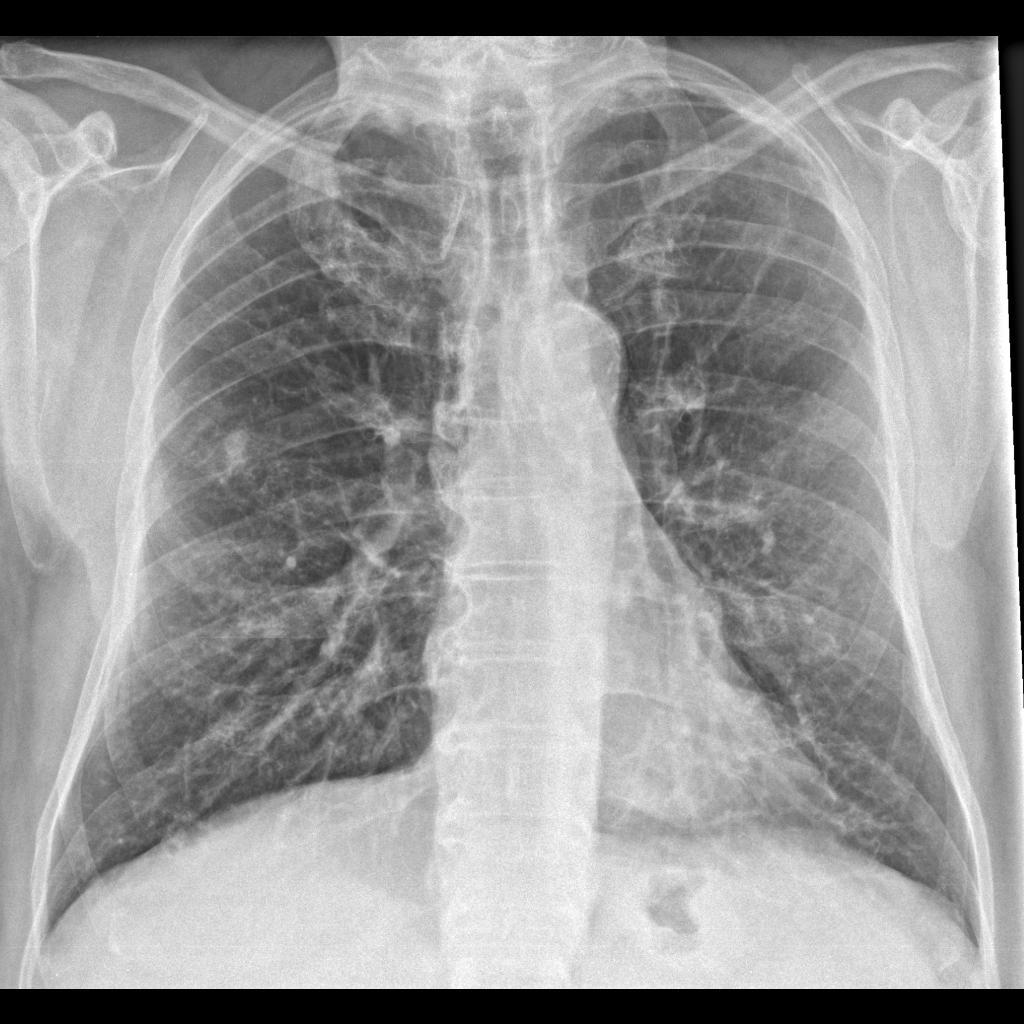Nodule: (210, 424, 261, 486)
